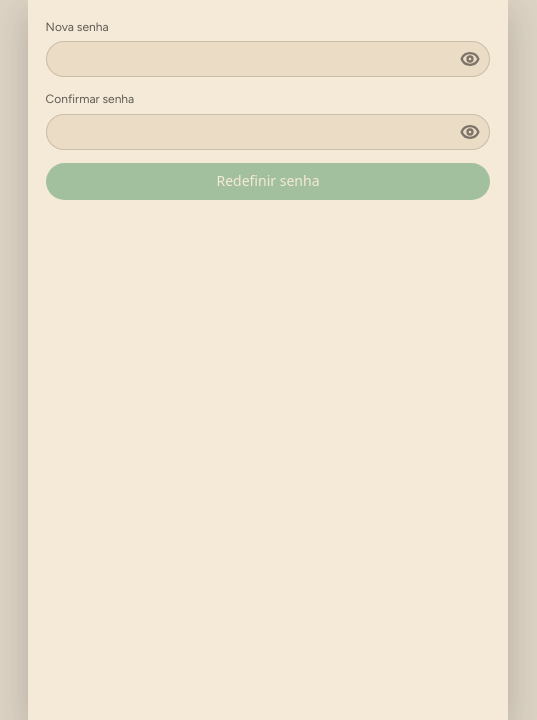
a successful password update shows a success message
The image size is (537, 720).
Type "123456" into the password field labelled "Nova senha".
click(268, 59); type("123456")  # box [46, 41, 490, 77]
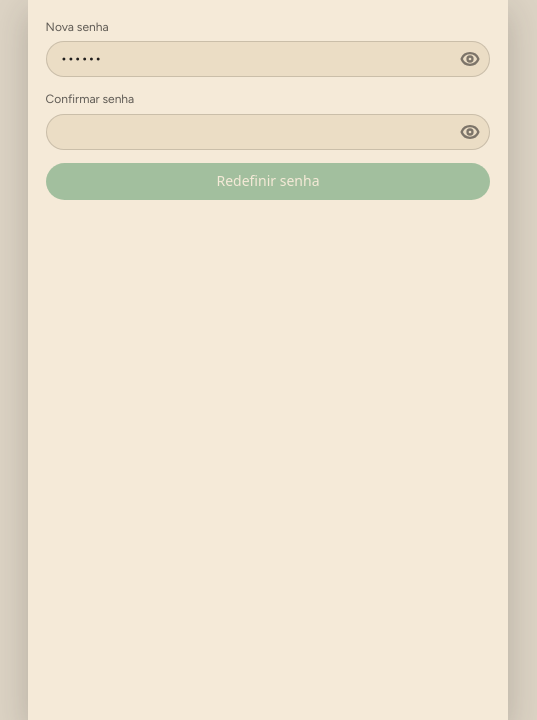
Type "123456" into the password field labelled "Confirmar senha".
click(268, 132); type("123456")  # box [46, 114, 490, 150]
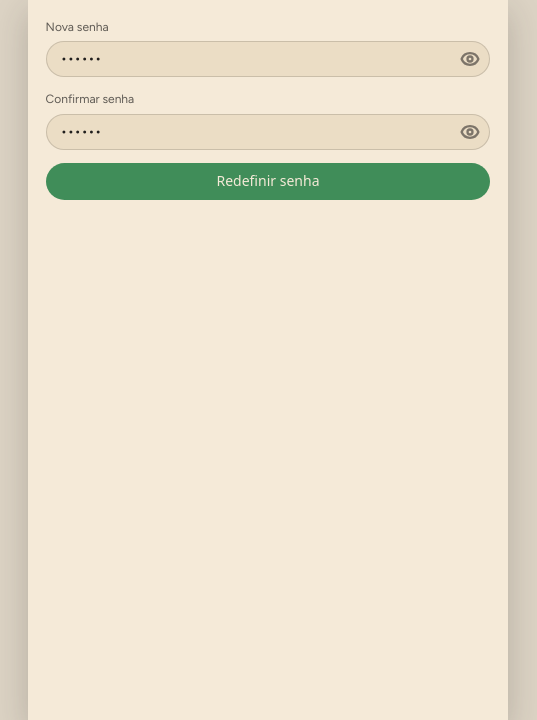
Click the button "Redefinir senha".
click(268, 181)  # box [46, 163, 490, 200]
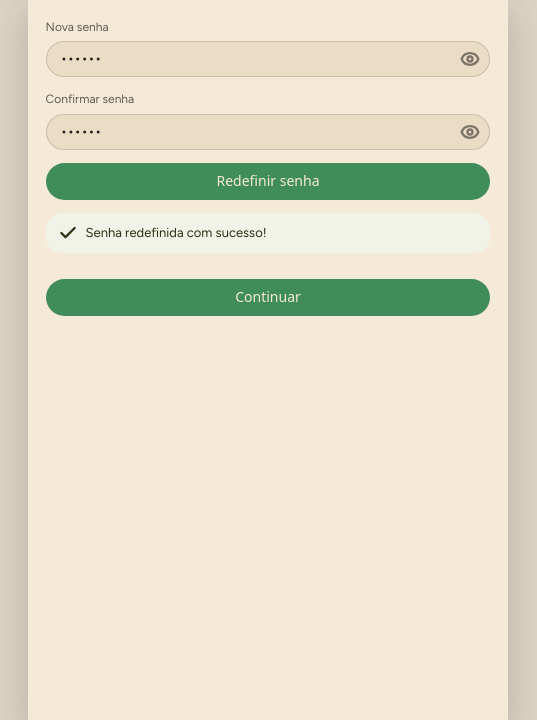
Expected: the text "Senha redefinida com sucesso!" is shown, [86, 223, 267, 243]
